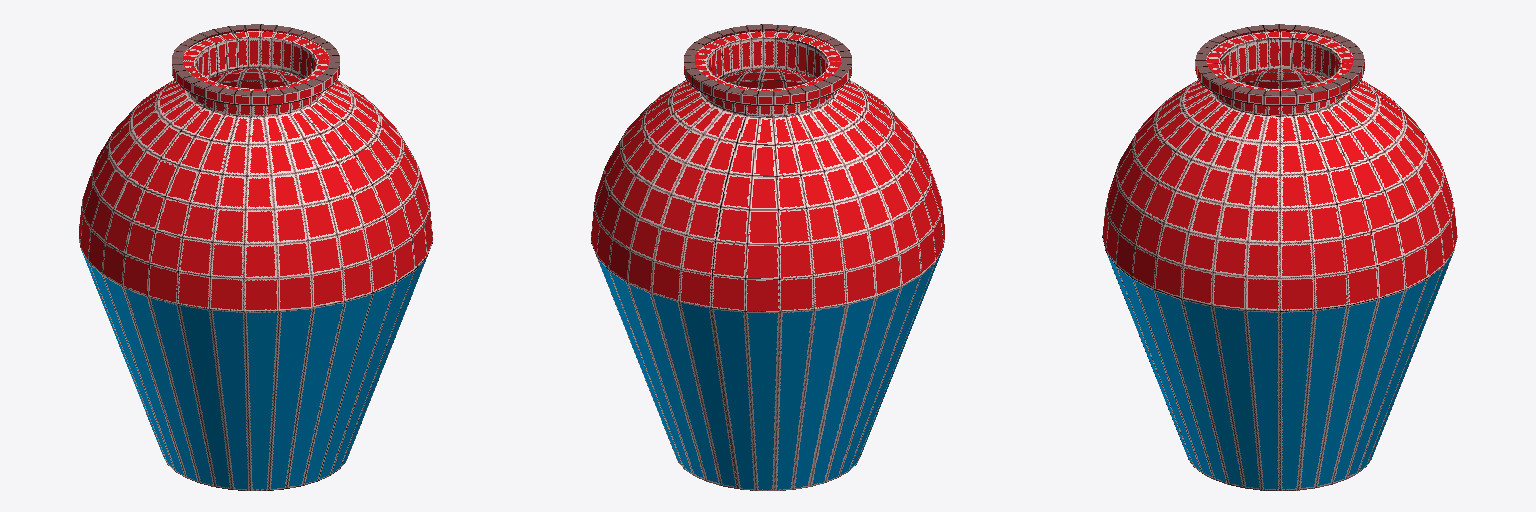
The picture shows the model from 3 angles: view 1: azimuth 30°, elevation 25°; view 2: azimuth 150°, elevation 25°; view 3: azimuth 270°, elevation 25°; orthographic projection.
Parts seen in each view (by area): view 1: Sphere; view 2: Sphere; view 3: Sphere.
Part boxes in pixels (bbox=[...]): Sphere: bbox=[79, 24, 432, 490]; Sphere: bbox=[591, 24, 944, 490]; Sphere: bbox=[1102, 24, 1457, 490].
Bounding box in the file's own units: 0.12 × 0.146 × 0.12.
Materials: 1 (1 with a texture image).